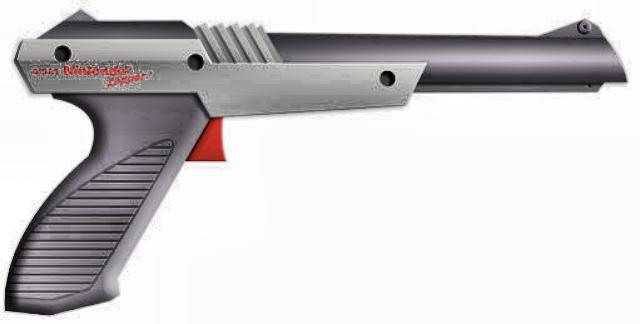pistol: (0, 3, 626, 313)
